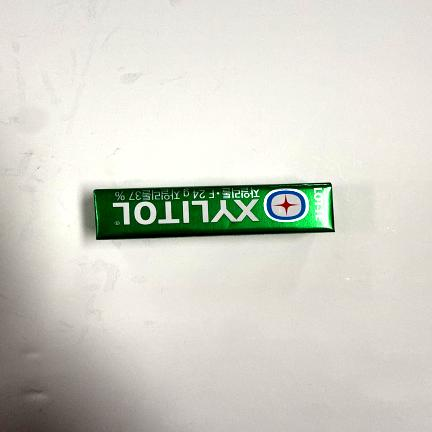gum_green: (96, 183, 334, 238)
